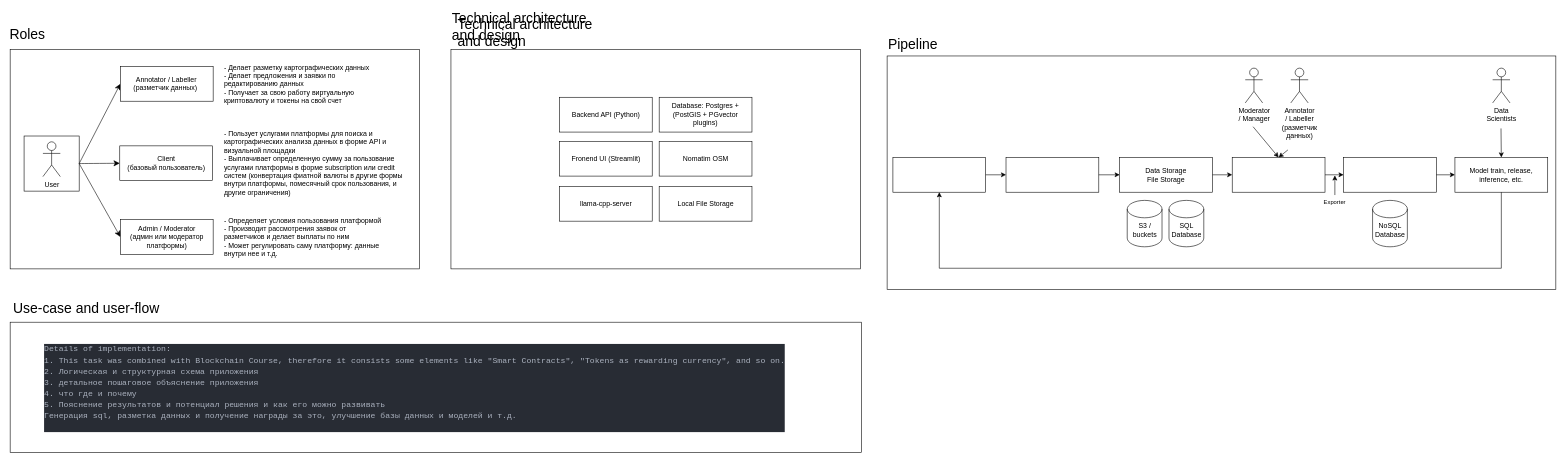
Image size: 1566x463. Some labels were removed from this diagram. Here are the shapes that lost their labels. From the top down, the centre of each, then its label:
At (939,174): "Source of data (video, images, audio, text, etc.)".
At (1052,174): "Data collection and management".
At (1278,174): "Labeling service / tool".
At (1389,174): "Label storage".
